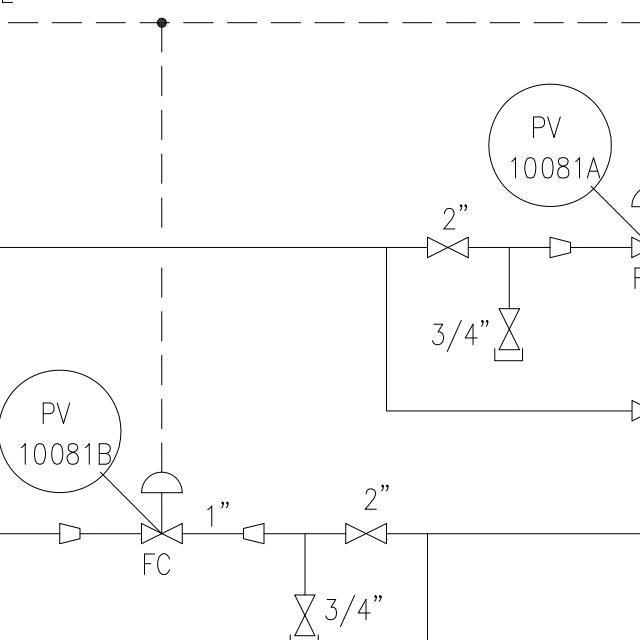EC: (486, 279, 528, 368), (285, 559, 323, 640)
FC: (131, 463, 188, 555)
GV: (338, 519, 392, 549), (423, 233, 472, 261), (497, 304, 522, 354), (293, 589, 317, 638)
SP: (239, 518, 271, 548), (53, 517, 83, 548), (545, 231, 573, 259)
